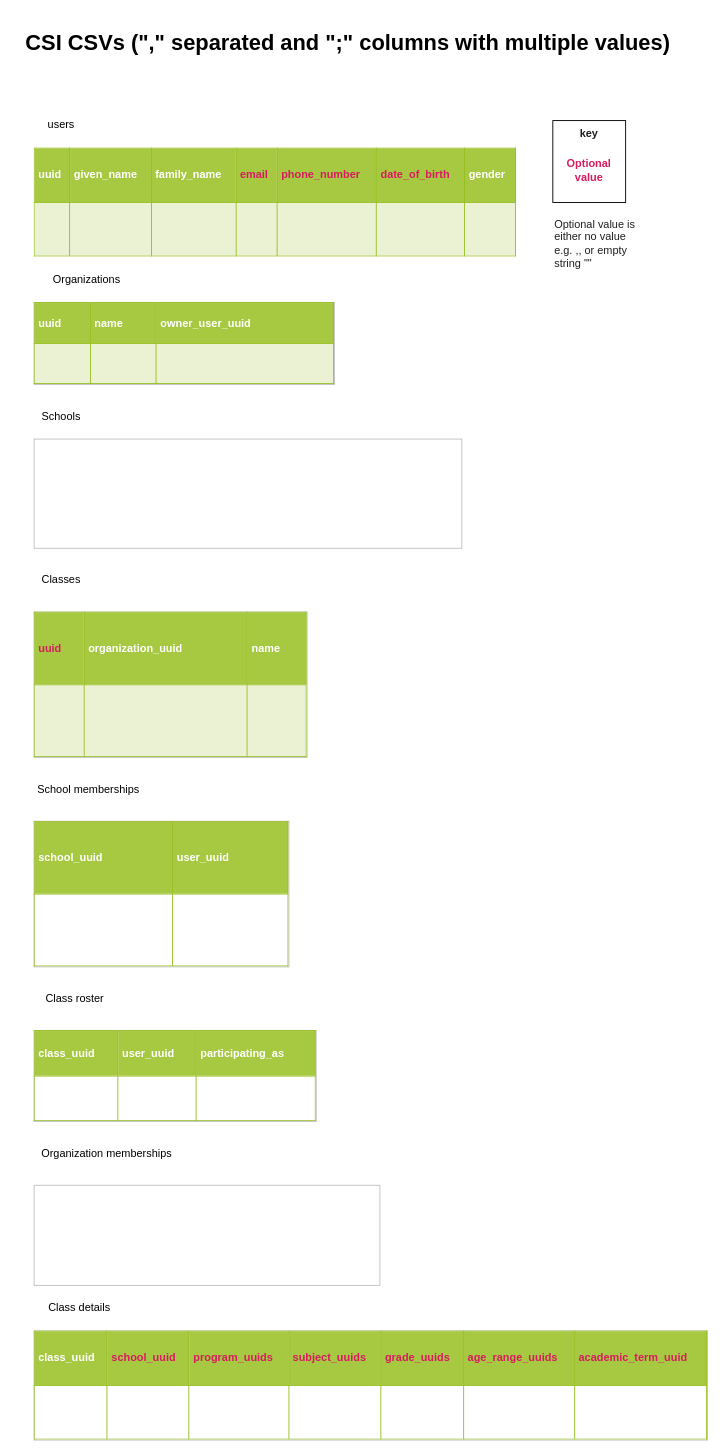
This 723x1456 diagram has some shape labels left out. The shapes that lost their labels are listed below. From the top down, each one's centre as x and y in pixels, then its label:
At (247,493): "uuid organization_uuid name program_uuids".
At (206,1234): "organization_uuid user_uuid organization_role_uuids".
